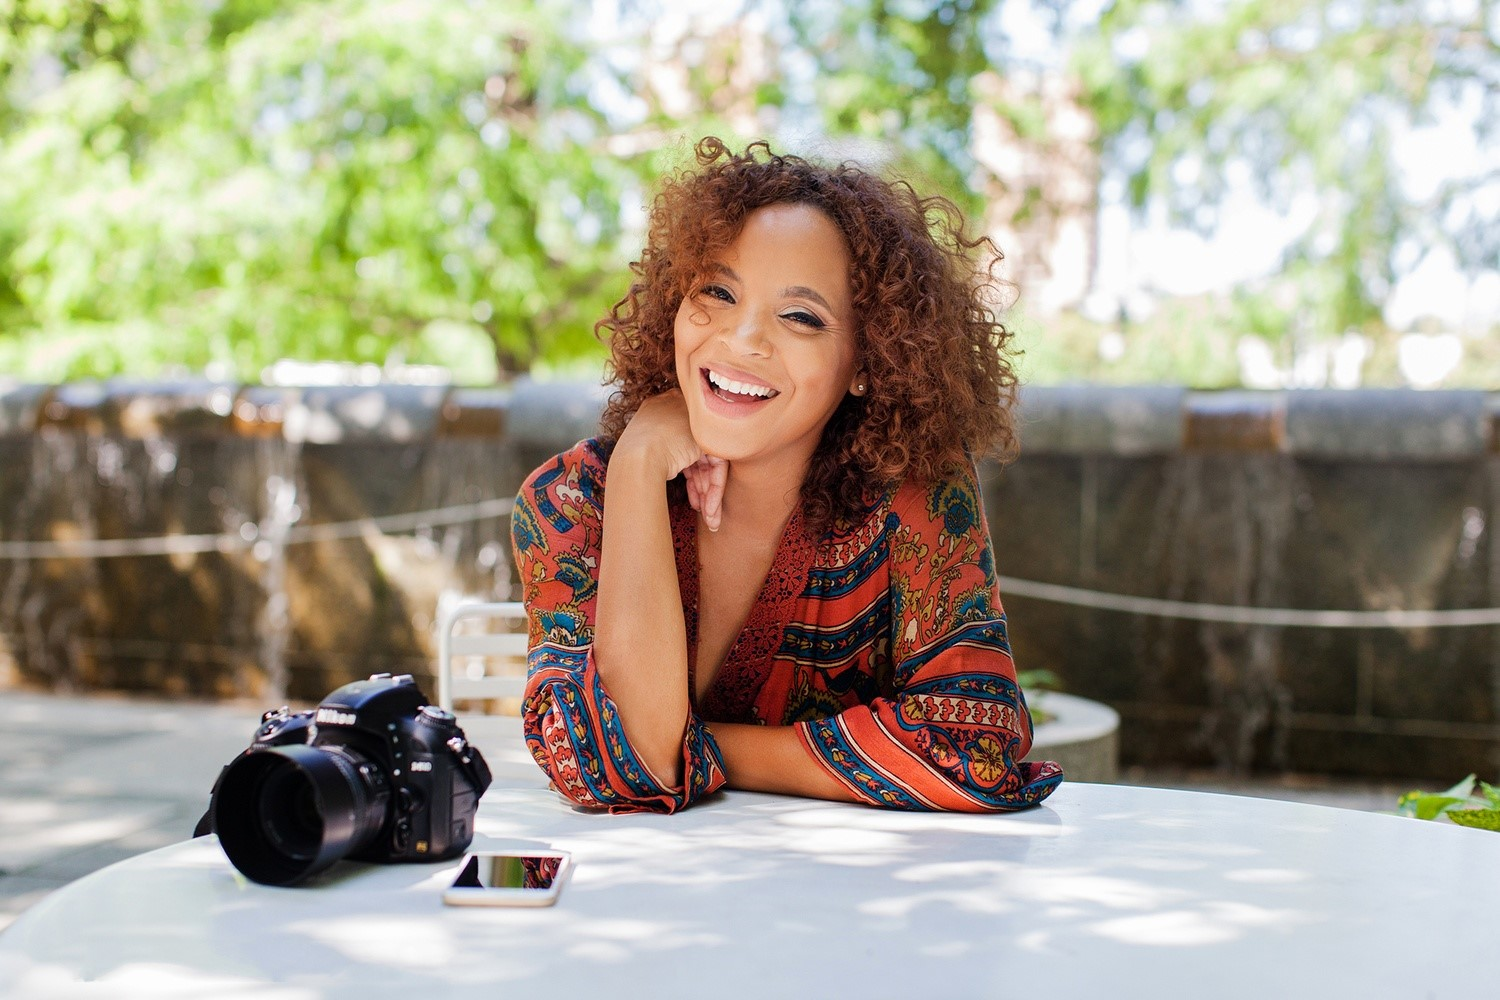face_no_mask: (669, 185, 877, 459)
